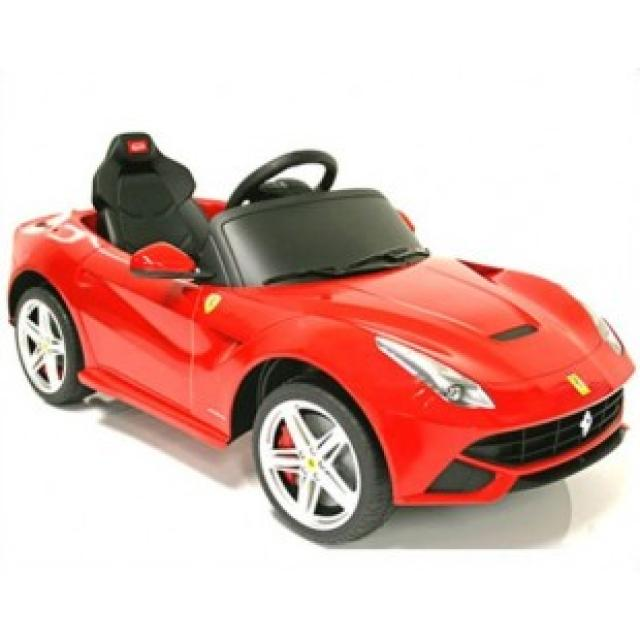Car: (4, 130, 634, 545)
